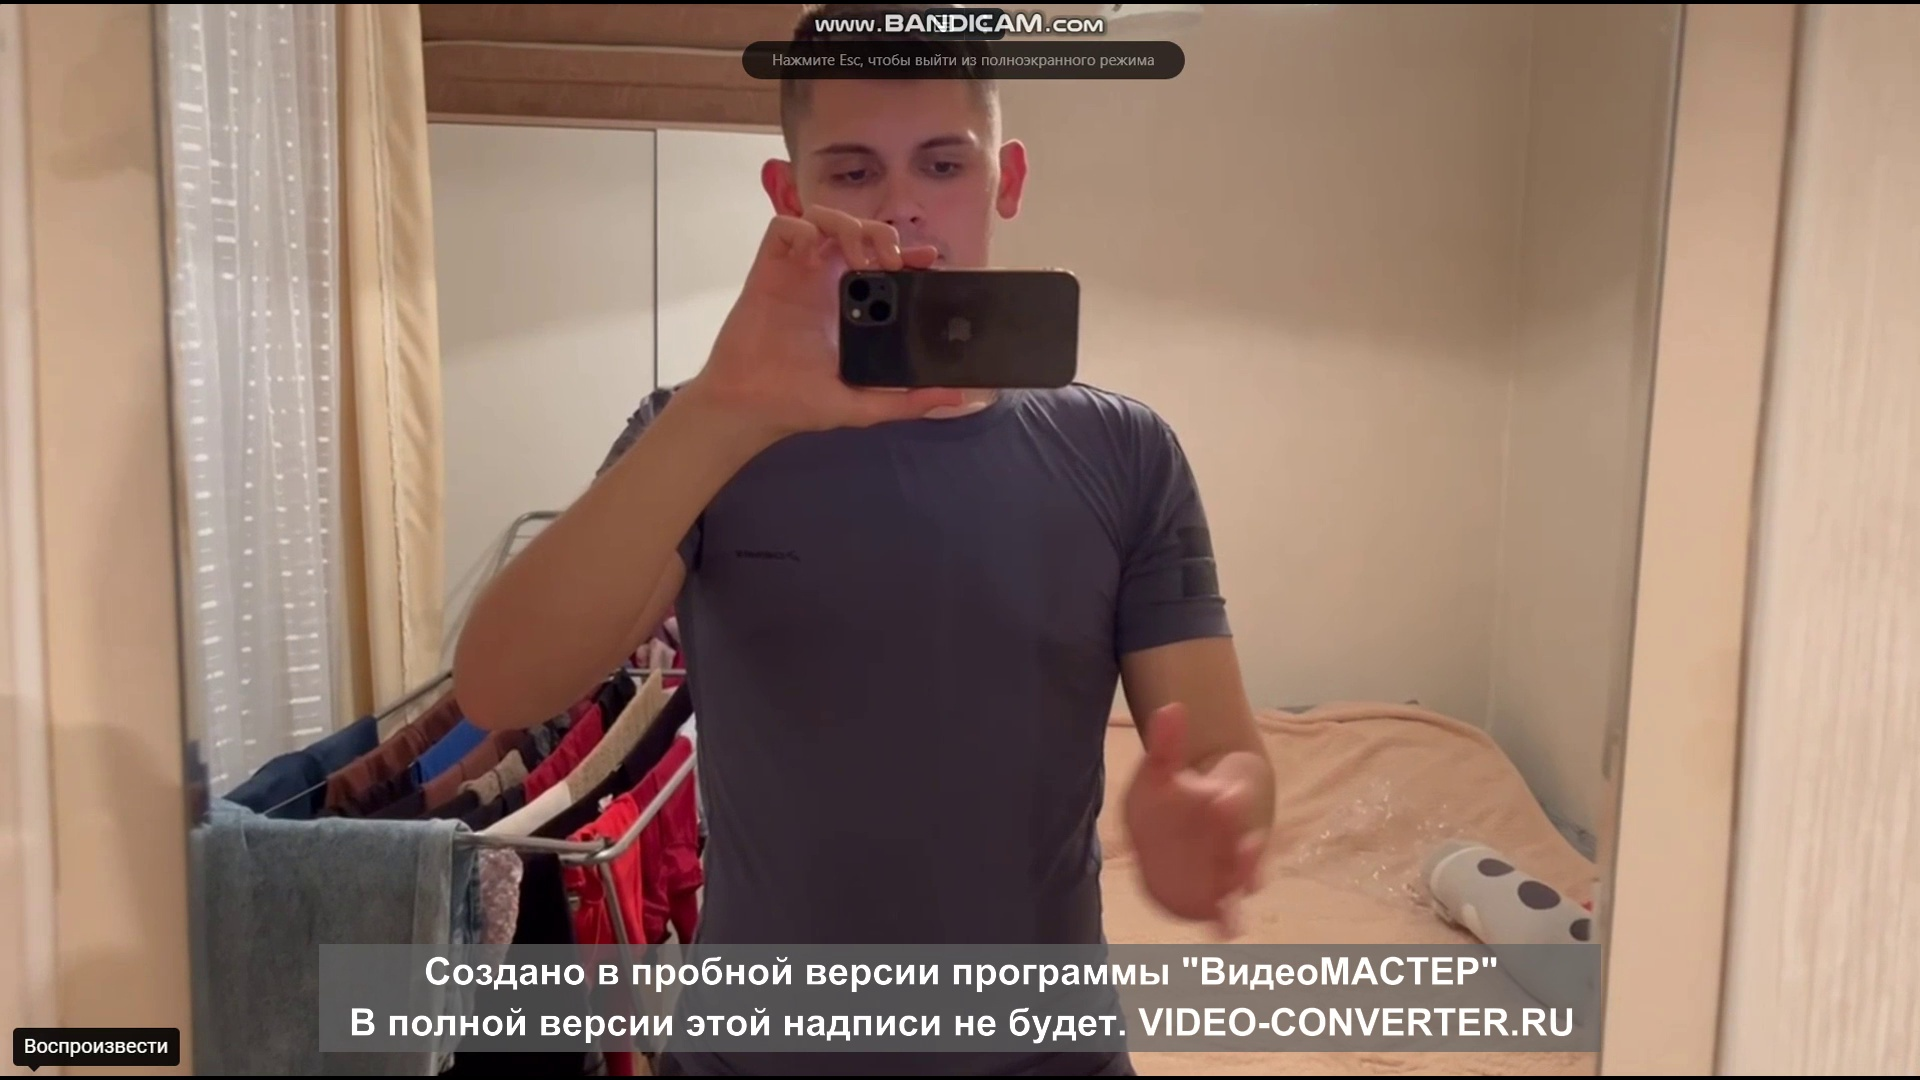Ладонь: (1121, 699, 1270, 938)
